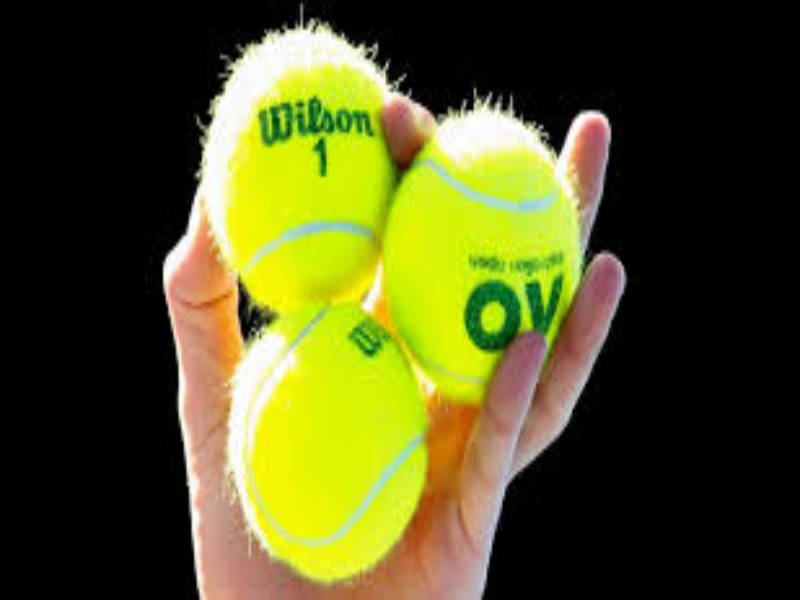tennis ball: (217, 300, 445, 584), (388, 89, 598, 393), (193, 32, 394, 273)
